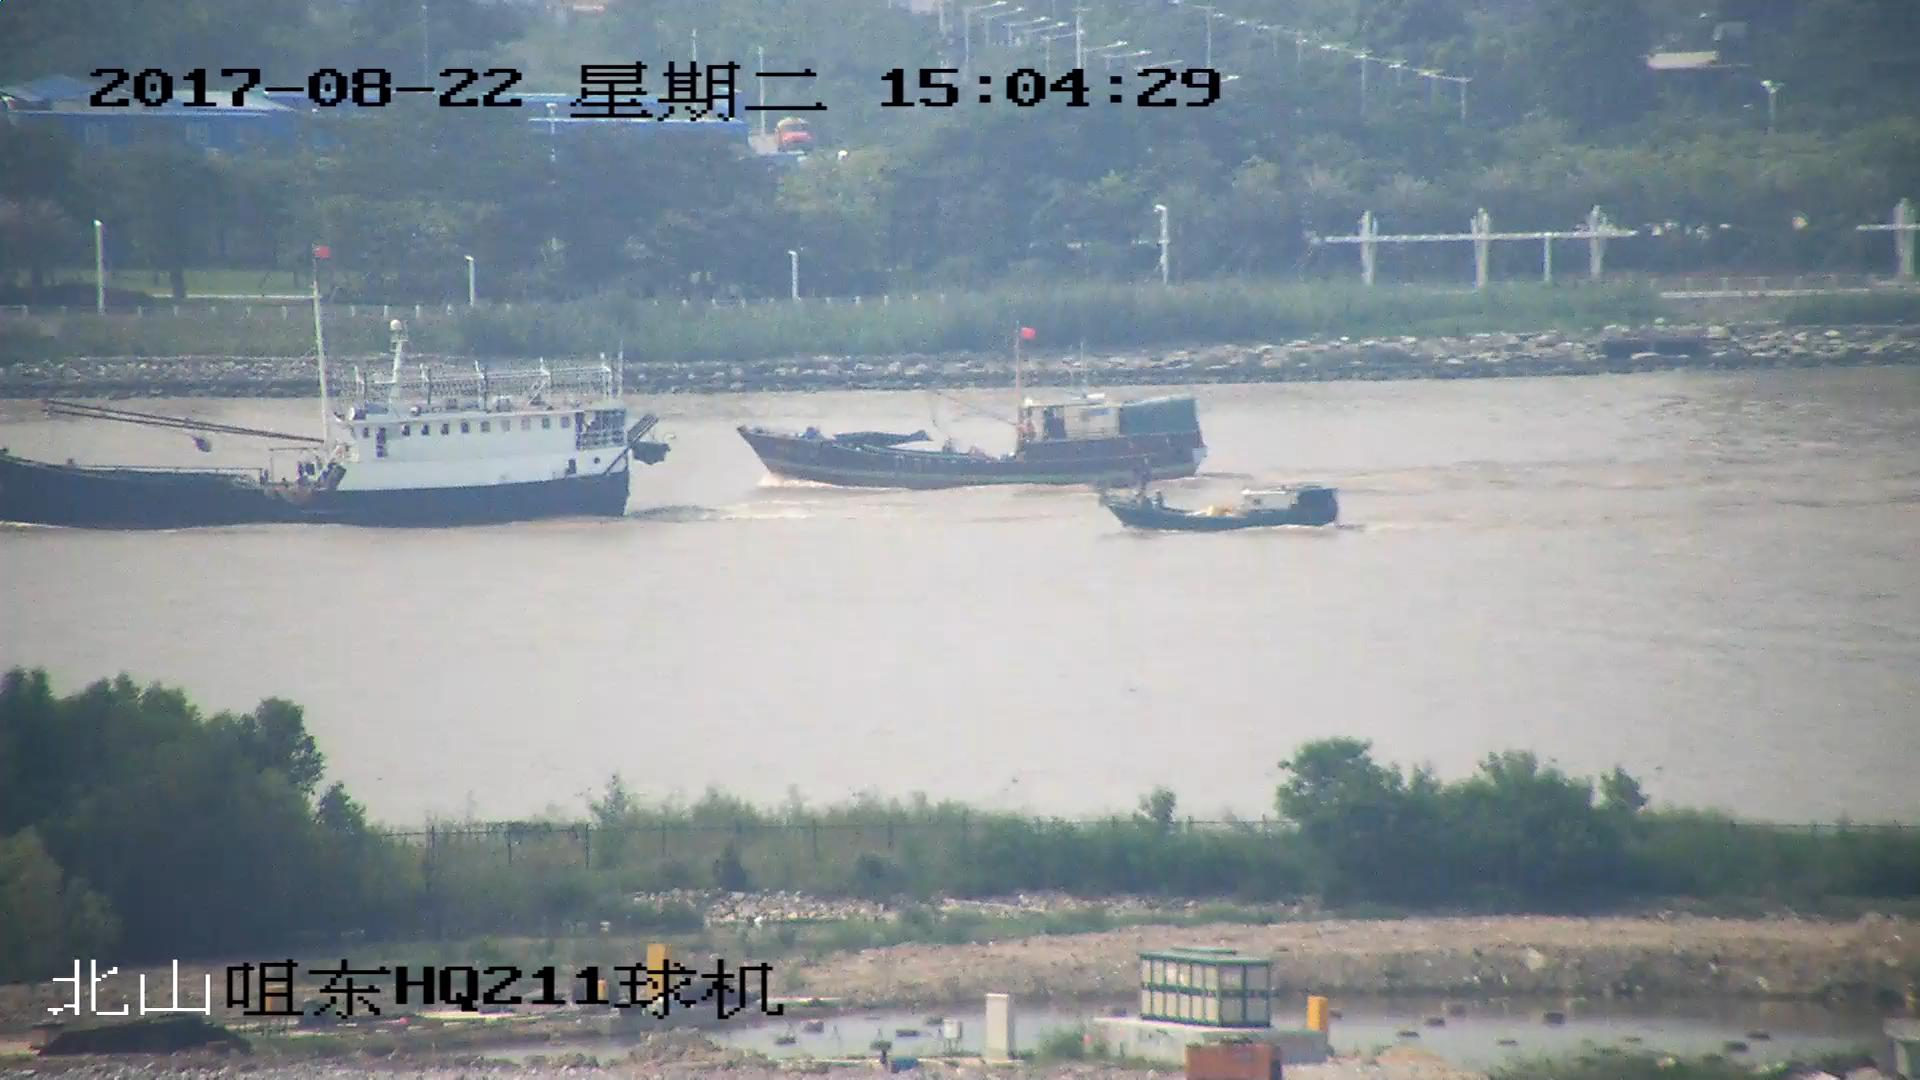fishing boat: (1, 251, 678, 525), (736, 327, 1208, 486), (1099, 474, 1342, 537)
